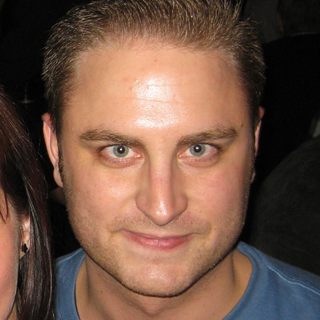eye: (95, 139, 144, 164), (177, 138, 223, 163)
